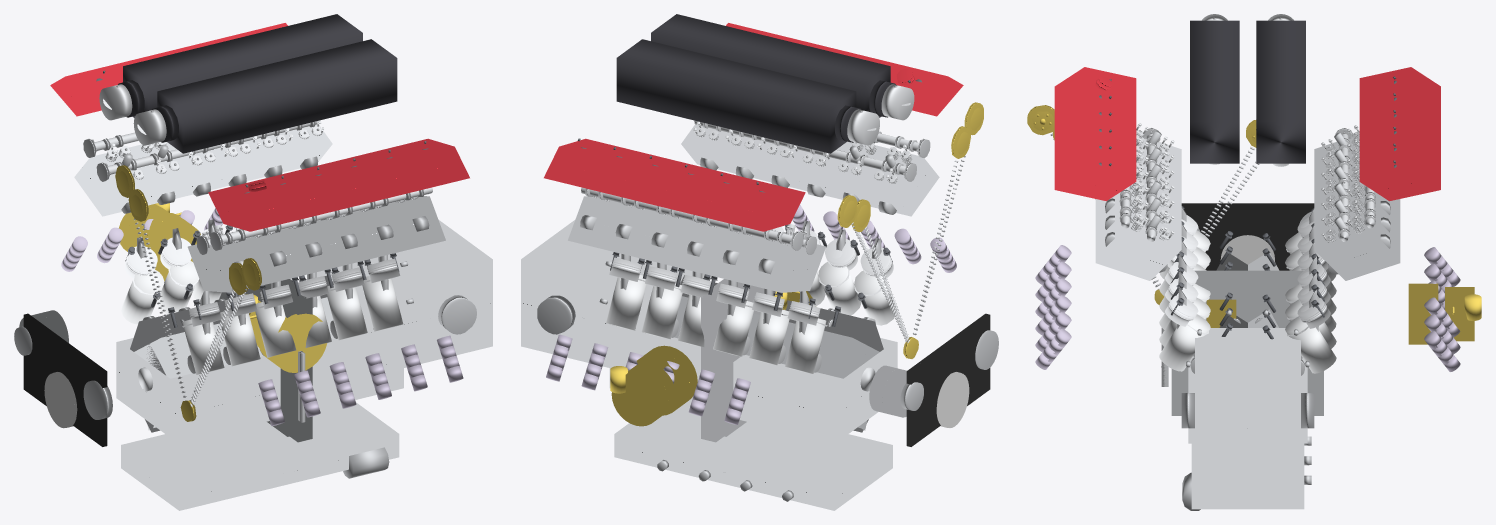
The model's file is v12_racing_engine_exploded.glb.
3 renders of one model, left to right at view 1: azimuth 30°, elevation 25°; view 2: azimuth 150°, elevation 25°; view 3: azimuth 270°, elevation 25°, orthographic. The views are drawn at different scales.
Visible parts, largest first — view 1: Engine_Block_V12, Mesh_Dry_Sump_Oil_Pan, Mesh_Plenum_Left, Mesh_Valve_Cover_Left, Mesh_Cylinder_Head_Left, Mesh_Transaxle_Case, GEO_EngineBlock_NikasilLiners, Mesh_Cylinder_Head_Right, Mesh_Plenum_Right, Mesh_Serpentine_Belt, Mesh_Valve_Cover_Right, Mesh_Turbocharger_Right (+27 smaller); view 2: Engine_Block_V12, Mesh_Plenum_Right, Mesh_Dry_Sump_Oil_Pan, Mesh_Cylinder_Head_Right, Mesh_Valve_Cover_Right, GEO_EngineBlock_NikasilLiners, Mesh_Transaxle_Case, Mesh_Cylinder_Head_Left, Mesh_Plenum_Left, Mesh_Turbocharger_Right, Mesh_Serpentine_Belt, Mesh_Valve_Cover_Left (+24 smaller); view 3: Mesh_Transaxle_Case, Mesh_Valve_Cover_Left, Mesh_Valve_Cover_Right, Mesh_Plenum_Left, Mesh_Plenum_Right, Mesh_Cylinder_Head_Left, Mesh_Cylinder_Head_Right, Engine_Block_V12, GEO_EngineBlock_NikasilLiners, Mesh_Dry_Sump_Oil_Pan, Mesh_Serpentine_Belt, Mesh_Turbocharger_Right (+23 smaller).
Part boxes in pixels (left/top/right/bottom): Engine_Block_V12: left=116, top=261, right=413, bottom=443; Mesh_Dry_Sump_Oil_Pan: left=121, top=402, right=399, bottom=510; Mesh_Plenum_Left: left=152, top=39, right=397, bottom=153; Mesh_Valve_Cover_Left: left=208, top=138, right=469, bottom=231; Mesh_Cylinder_Head_Left: left=187, top=196, right=445, bottom=292; Mesh_Transaxle_Case: left=316, top=220, right=492, bottom=367; GEO_EngineBlock_NikasilLiners: left=121, top=261, right=403, bottom=374; Mesh_Cylinder_Head_Right: left=74, top=124, right=332, bottom=216; Mesh_Plenum_Right: left=118, top=14, right=362, bottom=117; Mesh_Serpentine_Belt: left=23, top=313, right=107, bottom=446; Mesh_Valve_Cover_Right: left=50, top=23, right=287, bottom=116; Mesh_Turbocharger_Right: left=119, top=203, right=200, bottom=281; Engine_Block_V12: left=599, top=261, right=897, bottom=443; Mesh_Plenum_Right: left=616, top=39, right=861, bottom=153; Mesh_Dry_Sump_Oil_Pan: left=614, top=406, right=892, bottom=510; Mesh_Cylinder_Head_Right: left=568, top=196, right=825, bottom=292; Mesh_Valve_Cover_Right: left=544, top=138, right=805, bottom=231; GEO_EngineBlock_NikasilLiners: left=606, top=262, right=896, bottom=373; Mesh_Transaxle_Case: left=521, top=220, right=692, bottom=367; Mesh_Cylinder_Head_Left: left=681, top=124, right=939, bottom=216; Mesh_Plenum_Left: left=651, top=14, right=895, bottom=117; Mesh_Turbocharger_Right: left=610, top=345, right=697, bottom=426; Mesh_Serpentine_Belt: left=906, top=313, right=990, bottom=446; Mesh_Valve_Cover_Left: left=726, top=23, right=963, bottom=116; Mesh_Transaxle_Case: left=1181, top=328, right=1314, bottom=470; Mesh_Valve_Cover_Left: left=1054, top=67, right=1136, bottom=201; Mesh_Valve_Cover_Right: left=1359, top=67, right=1440, bottom=201; Mesh_Plenum_Left: left=1190, top=20, right=1239, bottom=163; Mesh_Plenum_Right: left=1256, top=20, right=1305, bottom=163; Mesh_Cylinder_Head_Left: left=1095, top=130, right=1181, bottom=280; Mesh_Cylinder_Head_Right: left=1314, top=132, right=1400, bottom=280; Engine_Block_V12: left=1171, top=253, right=1323, bottom=443; GEO_EngineBlock_NikasilLiners: left=1159, top=230, right=1336, bottom=373; Mesh_Dry_Sump_Oil_Pan: left=1182, top=436, right=1311, bottom=510; Mesh_Serpentine_Belt: left=1181, top=203, right=1314, bottom=270; Mesh_Turbocharger_Right: left=1408, top=283, right=1481, bottom=344.
Bounding box in the file's own units: 1.37 × 1.32 × 1.37.
